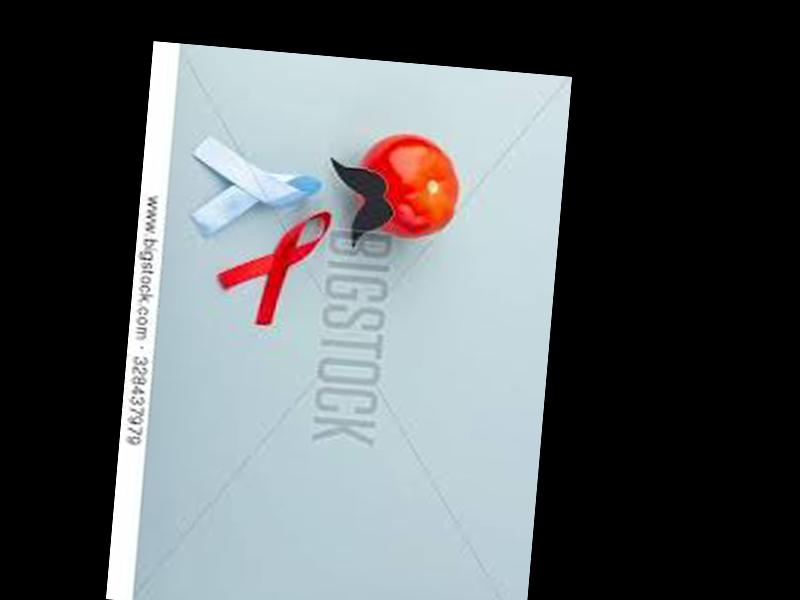Tomato: (353, 131, 463, 242)
